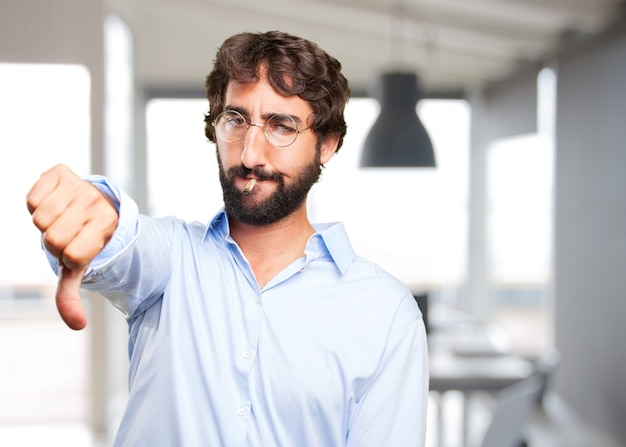cigarette: (240, 175, 259, 194)
